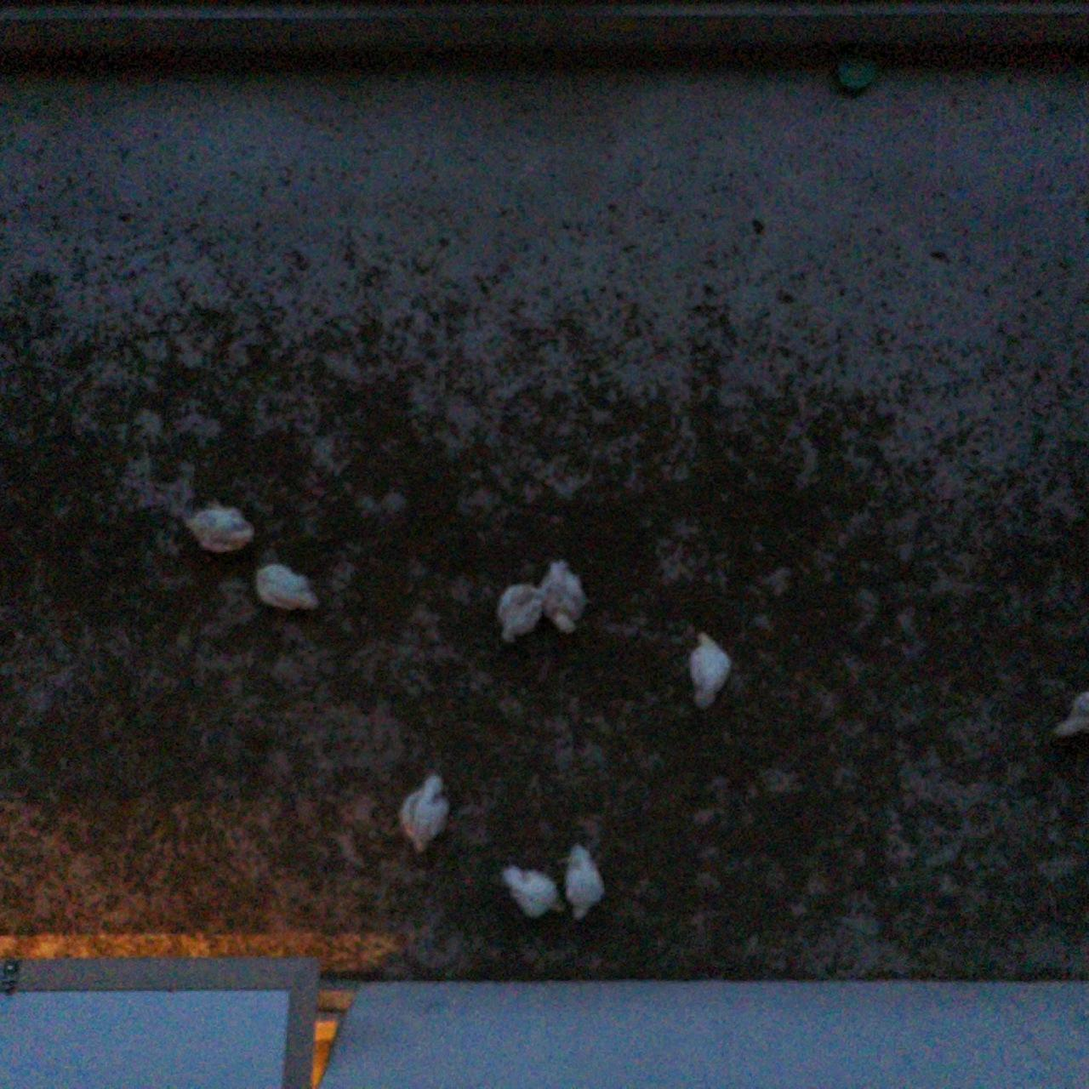chicken: (394, 769, 457, 859), (181, 496, 257, 556), (496, 860, 570, 921), (536, 556, 589, 638), (685, 628, 735, 714), (252, 560, 323, 616), (560, 840, 606, 925), (494, 581, 548, 649), (1048, 685, 1089, 746)
